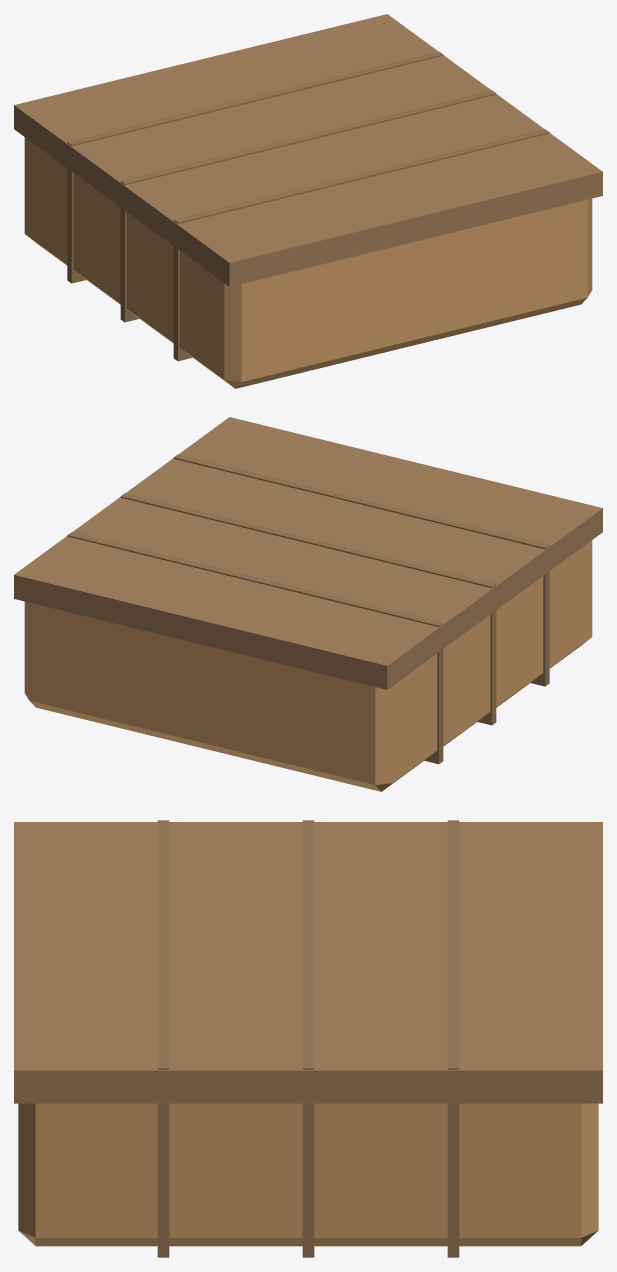
Rendered from PlankSlab.fbx.
3 renders of one model, top to bottom at view 1: azimuth 30°, elevation 25°; view 2: azimuth 150°, elevation 25°; view 3: azimuth 270°, elevation 25°, orthographic. The views are drawn at different scales.
Parts seen in each view (by area): view 1: PlankSlab; view 2: PlankSlab; view 3: PlankSlab.
Part boxes in pixels (<box>): PlankSlab: <box>14,14,602,388</box>; PlankSlab: <box>14,417,602,791</box>; PlankSlab: <box>14,820,602,1257</box>.
Bounding box in the file's own units: 4.06 × 1.44 × 4.06.
1 material, 1 textured.
